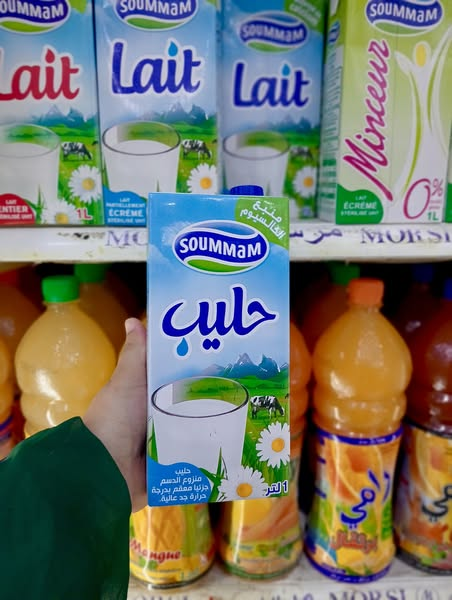soummam_milk: (138, 181, 302, 510)
